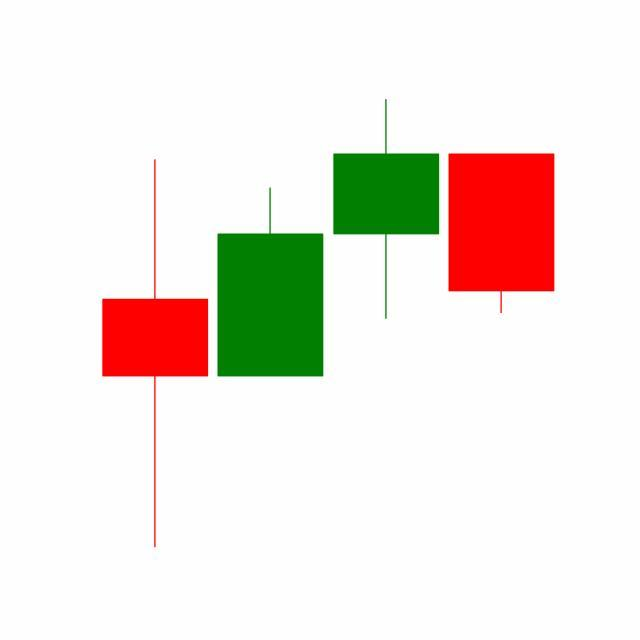Marubozu: (444, 151, 560, 316)
